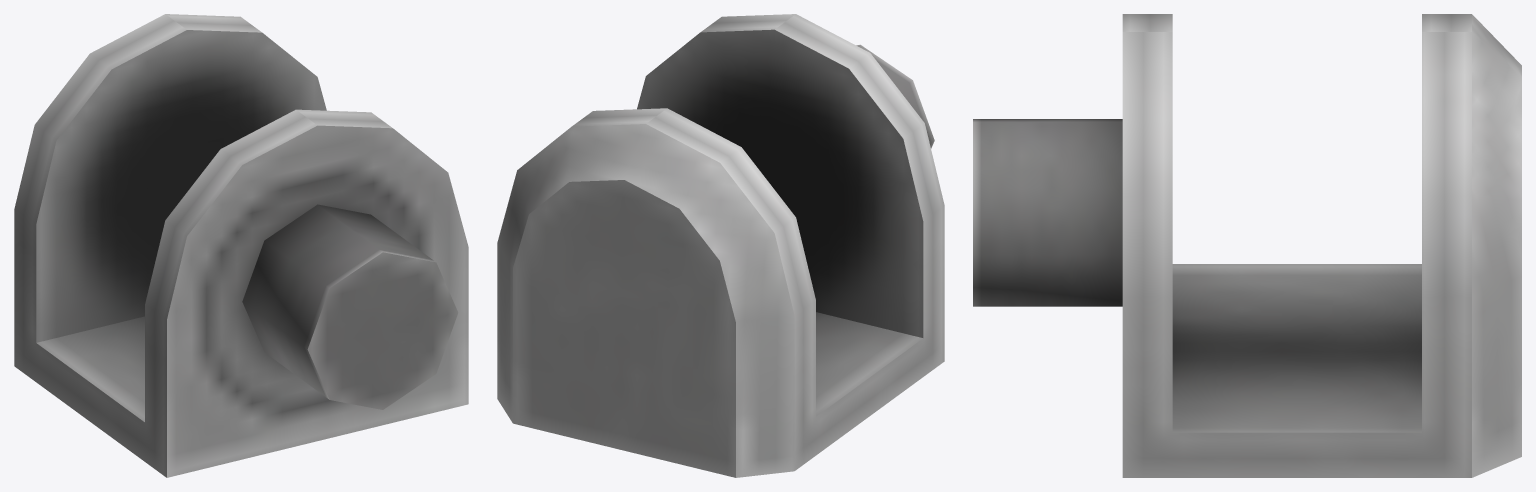
The model's file is 4mv_vl_sensor_visible_light_camera_srf_1_compact.obj.
3 views of the same model, side by side, from view 1: azimuth 30°, elevation 25°; view 2: azimuth 150°, elevation 25°; view 3: azimuth 270°, elevation 25° (orthographic). The views are drawn at different scales.
Parts seen in each view (by area): view 1: mesh1; view 2: mesh1; view 3: mesh1.
Part boxes in pixels (x1,y1,x2,y2): mesh1: (14, 14, 468, 477); mesh1: (497, 14, 944, 477); mesh1: (973, 14, 1521, 477).
Bounding box in the file's own units: 0.1 × 0.1 × 0.1375.
